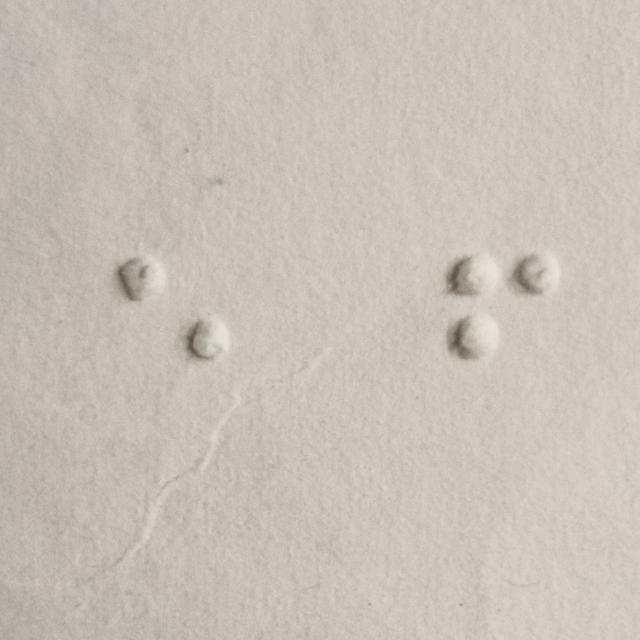letter_e: (116, 253, 232, 418)
letter_f: (446, 255, 562, 420)
